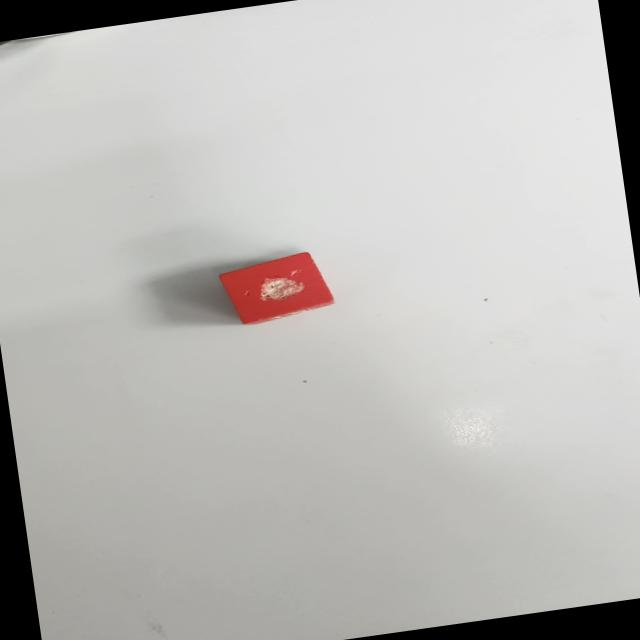broken: (216, 248, 337, 328)
